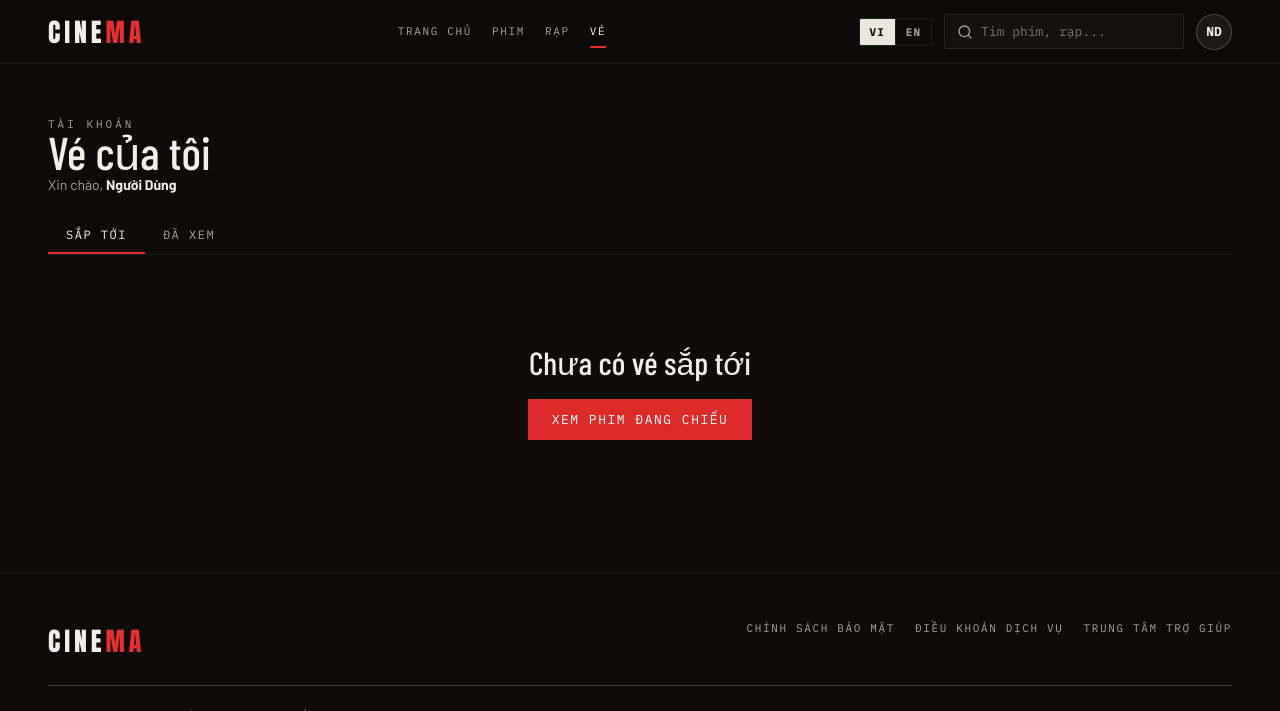
MyTickets › không có vé nào thì mời đi đặt vé
Check: the tab "Sắp tới" is shown, box [48, 217, 145, 254]
Check: the text "Chưa có vé sắp tới" is shown, box [529, 343, 751, 383]
Click the button "Xem phim đang chiếu": (640, 420) [528, 399, 752, 440]
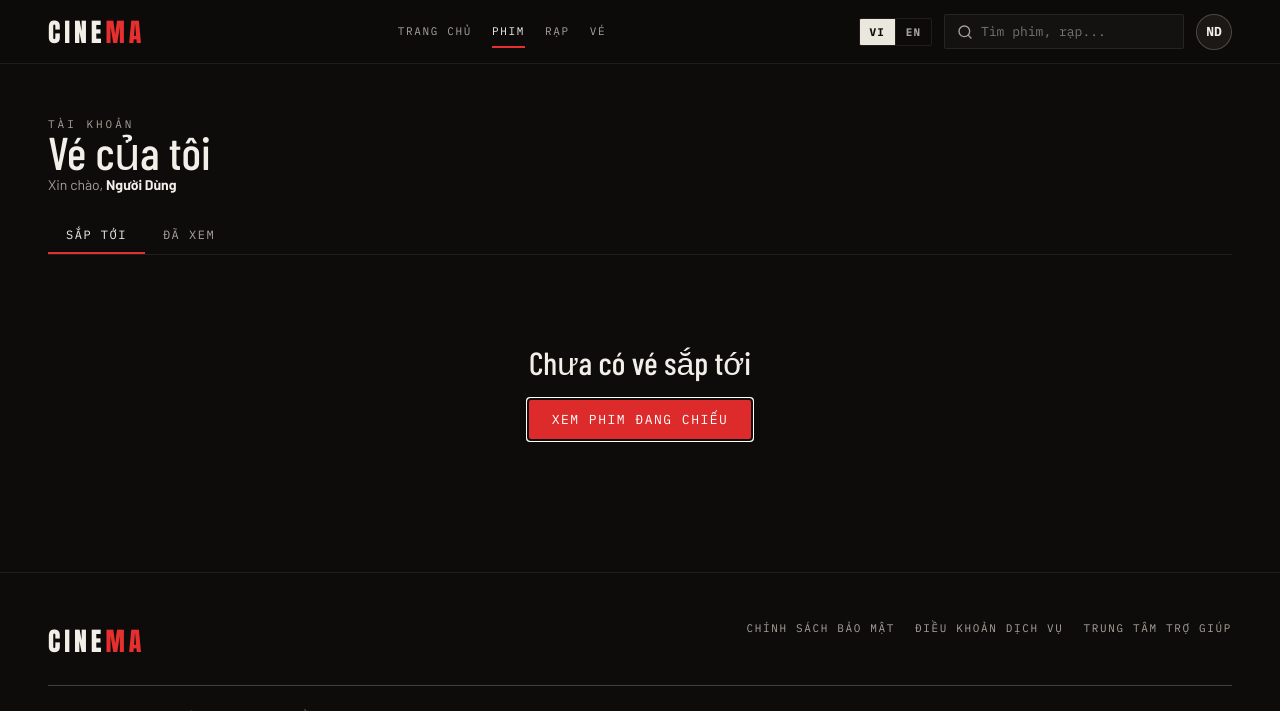
Click the tab "Đã xem": (189, 236) [145, 217, 233, 254]
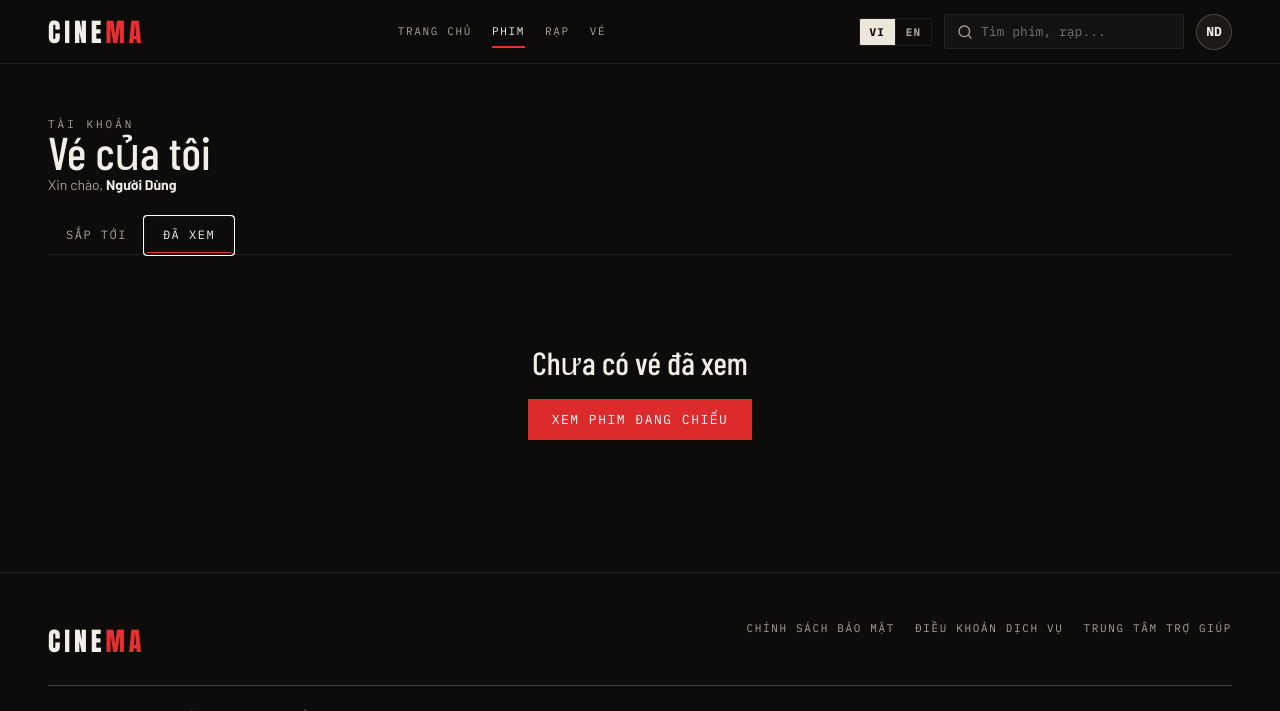
Check: the text "Chưa có vé đã xem" is shown, box [532, 343, 748, 383]
